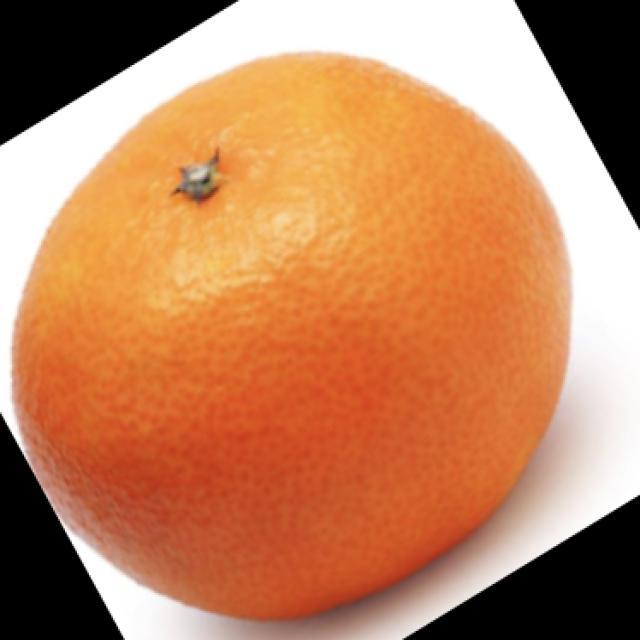Orange: (9, 48, 573, 621)
